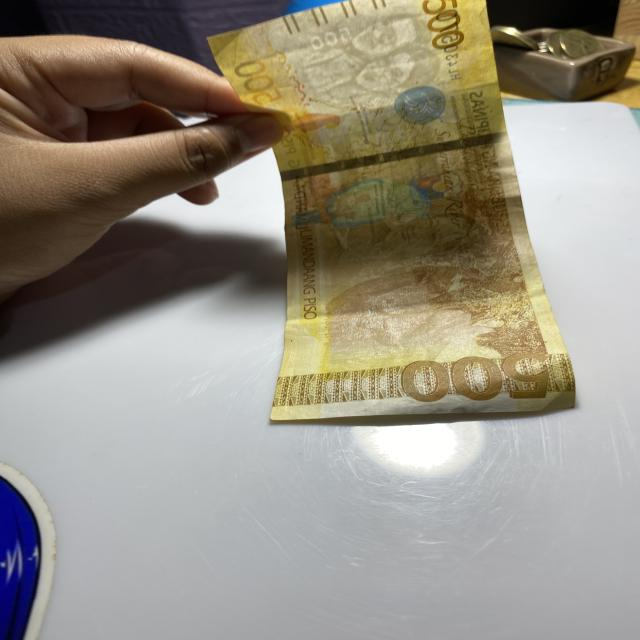500_big_parrot: (300, 172, 454, 238)
500_parrot_watermark: (284, 111, 347, 141)
value_watermark: (306, 28, 355, 52)
watermark: (307, 16, 435, 99)
